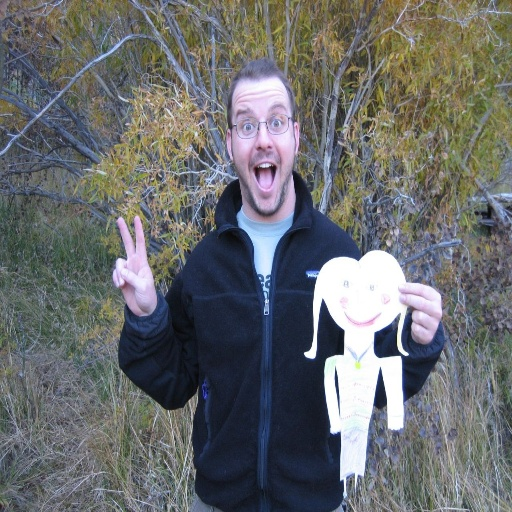hand: (388, 275, 447, 360), (110, 214, 158, 317)
